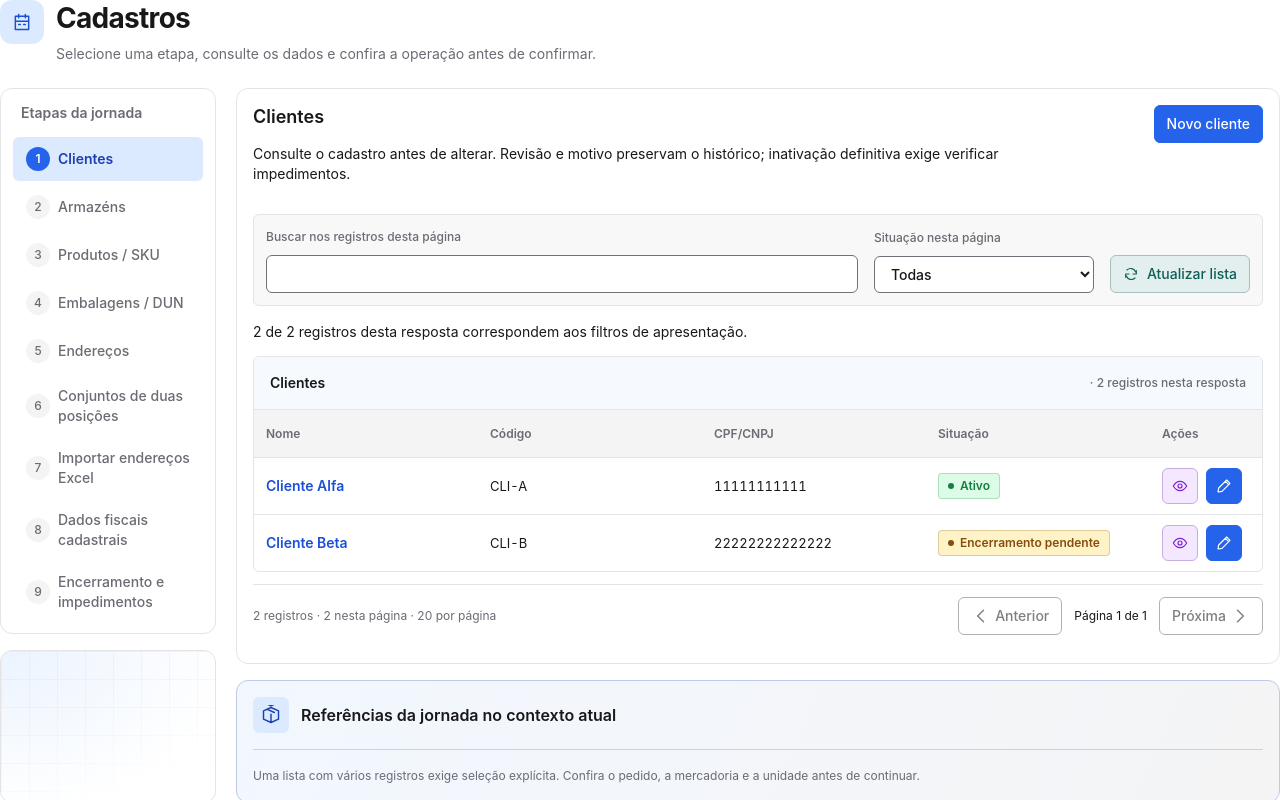
it: REG01 Clientes por registro › recusa detalhe de outro registro antes de apresentar o formulário
The width and height of the screenshot is (1280, 800).
Click the button named "Editar" in the row of "CLI-A": {"x": 1224, "y": 486} [1206,468,1242,504]
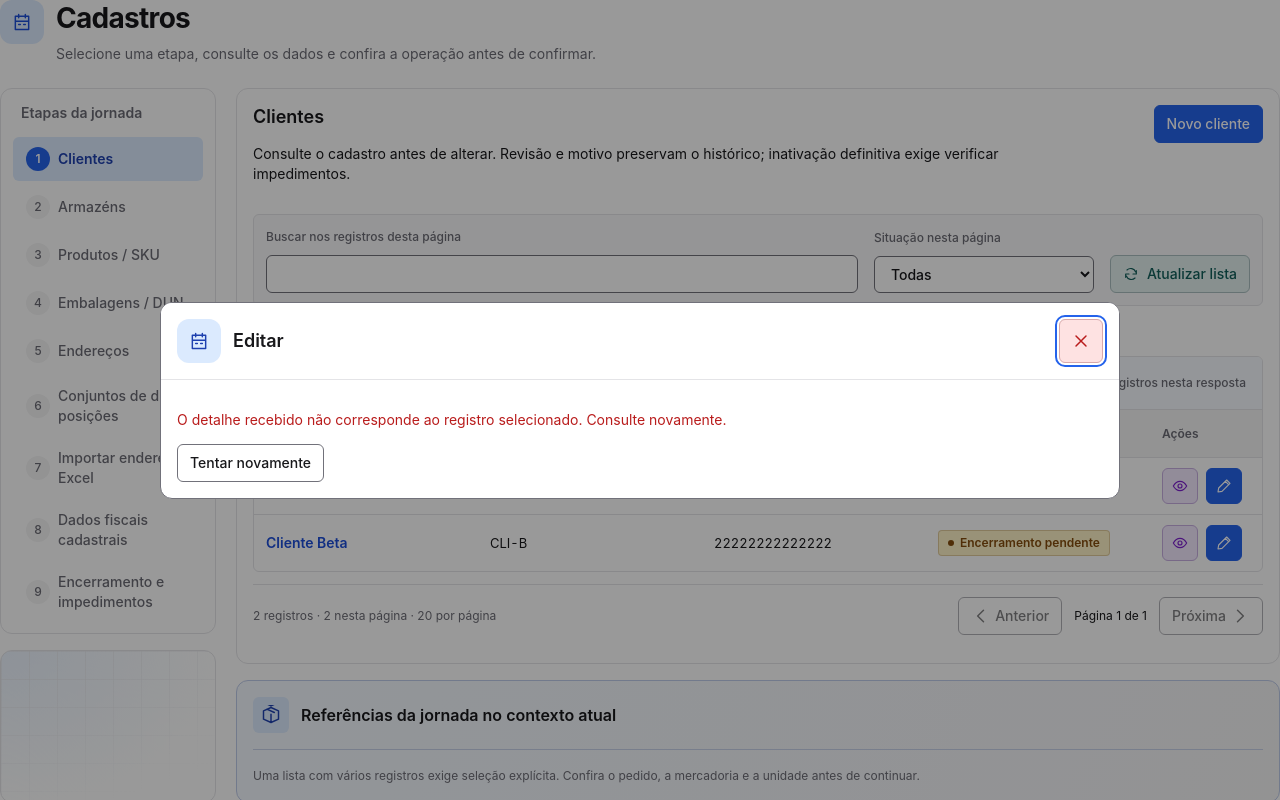
Now the text "não corresponde ao registro selecionado" is shown, box [177,410,726,428]
